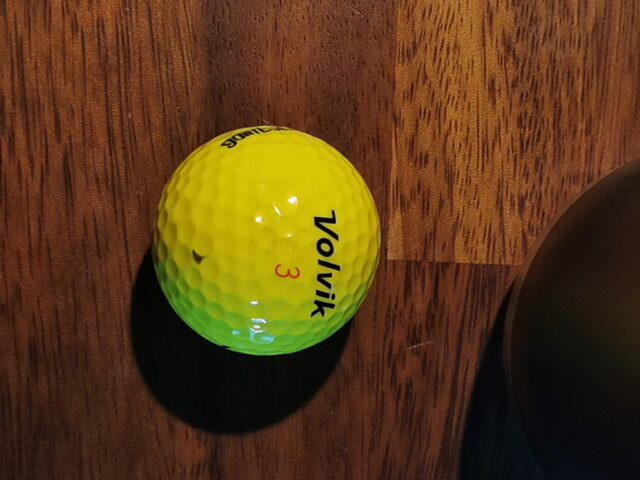Ball: (152, 126, 382, 356)
Volvik: (310, 209, 341, 318)
